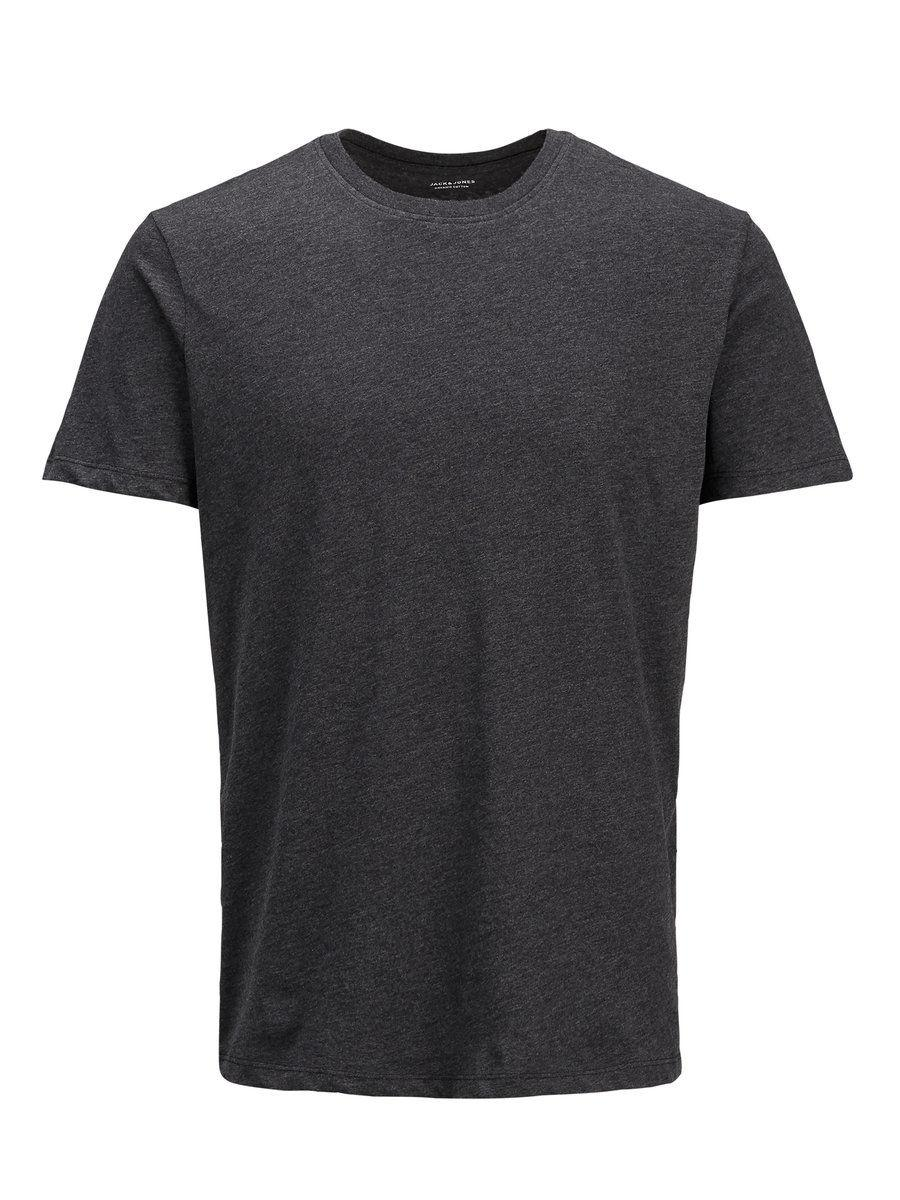teeshirt: (43, 118, 887, 1125)
